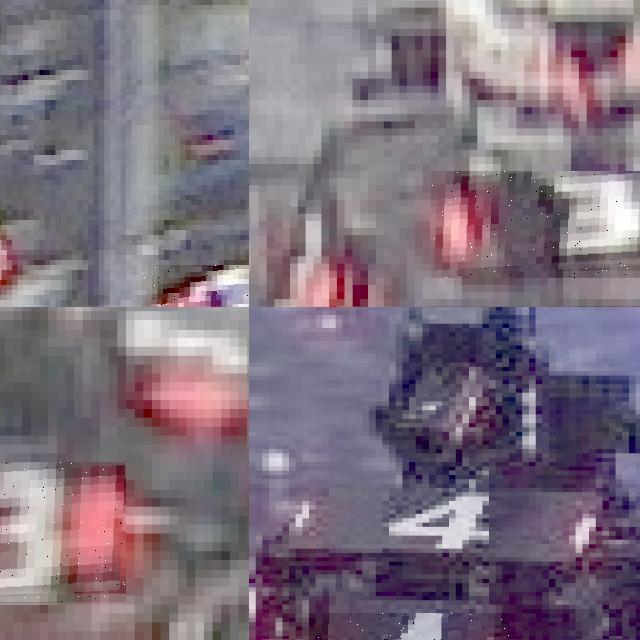R2: (142, 265, 249, 307)
R3: (430, 171, 640, 277), (0, 462, 125, 604), (259, 192, 345, 307)
